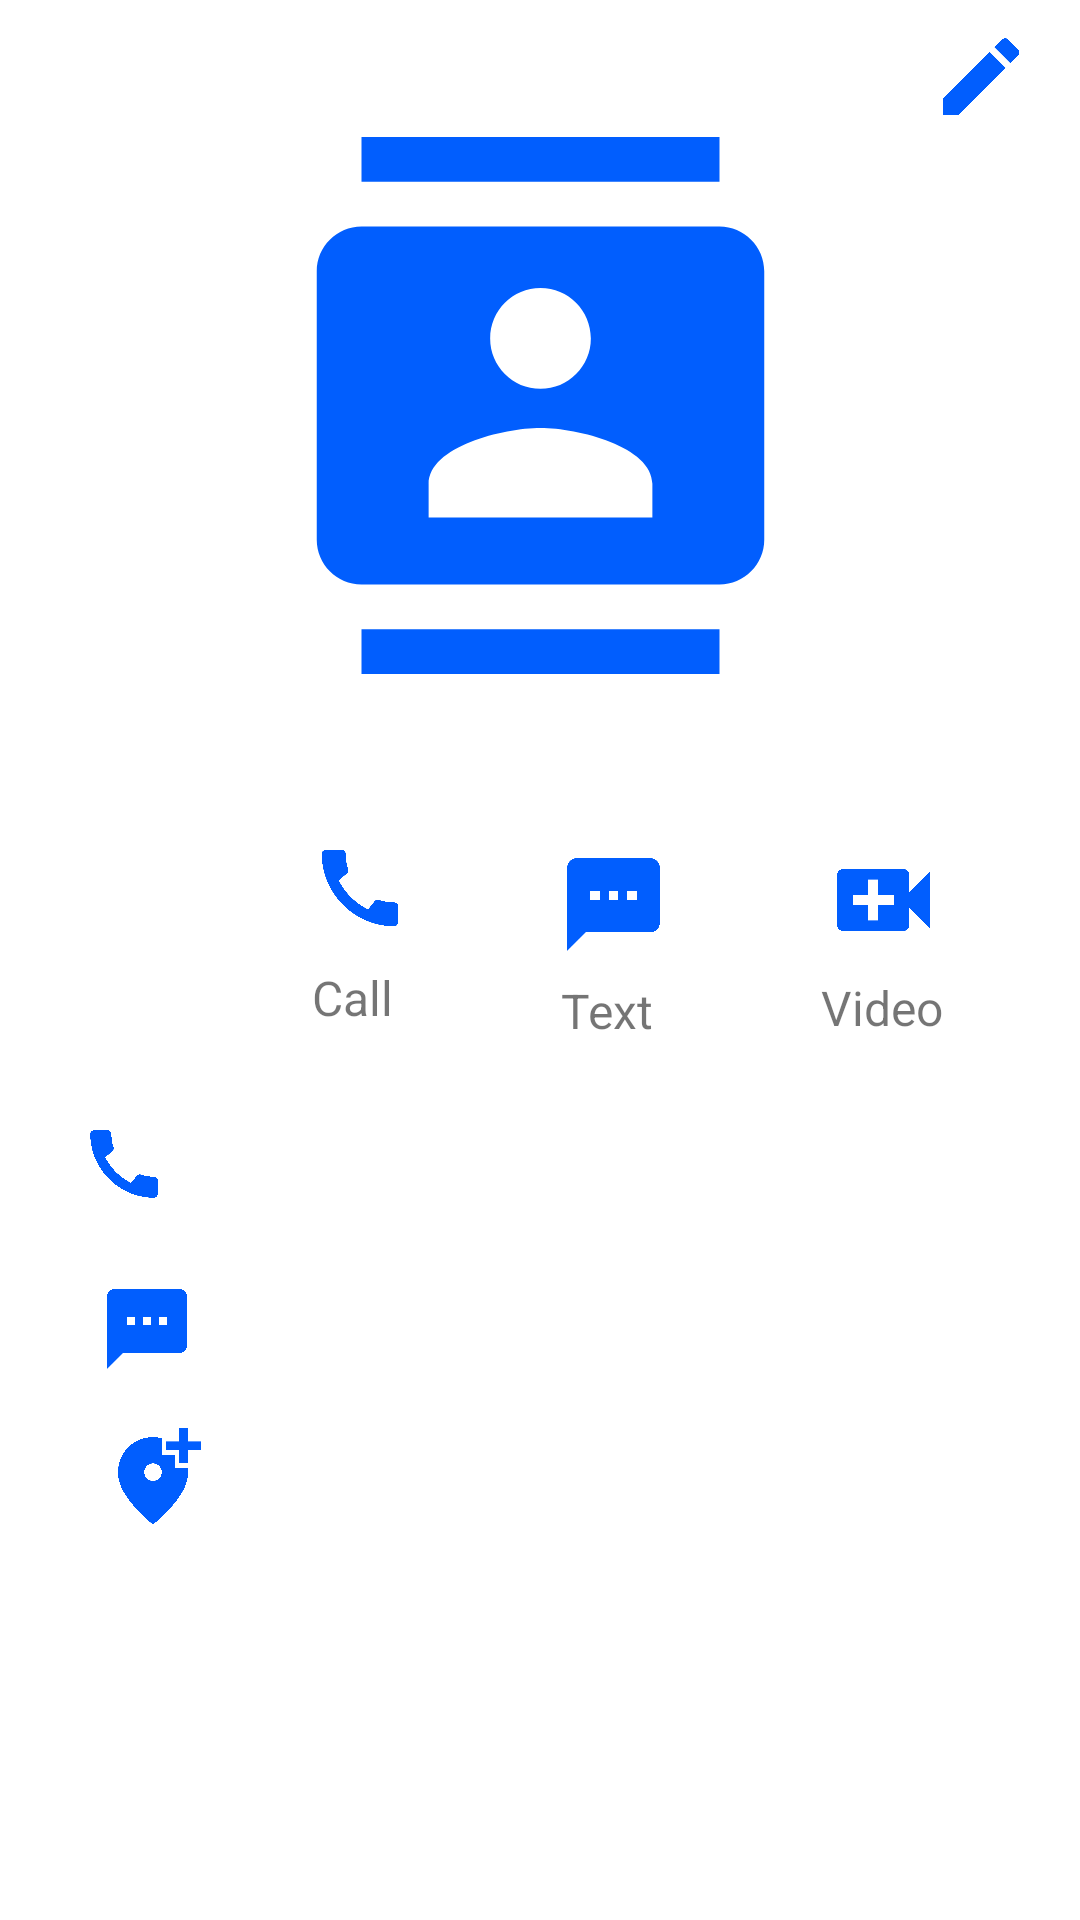

Where icons sit on this 1080 × 1920 app screen, as [x1, y1, x2, y2]:
add location: [118, 1428, 201, 1524]
edit: [943, 38, 1019, 115]
